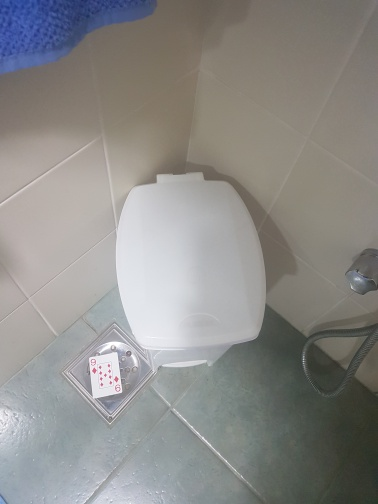nine: (86, 355, 124, 400)
